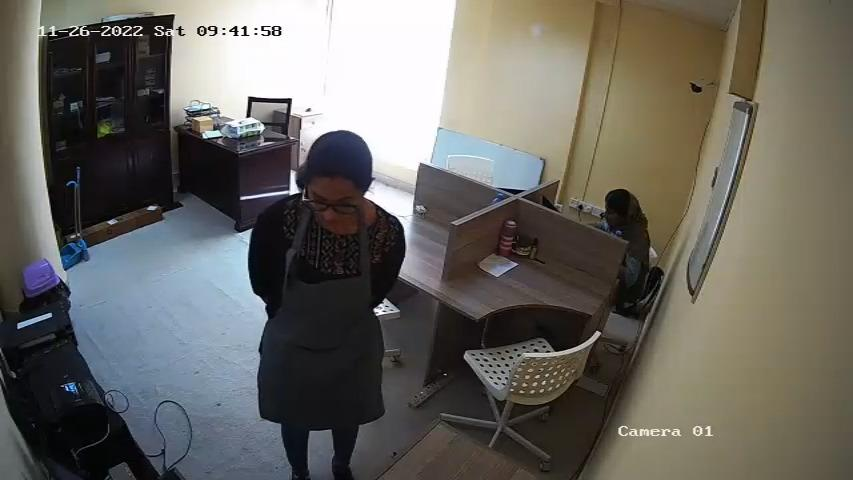apron: (269, 218, 387, 420)
